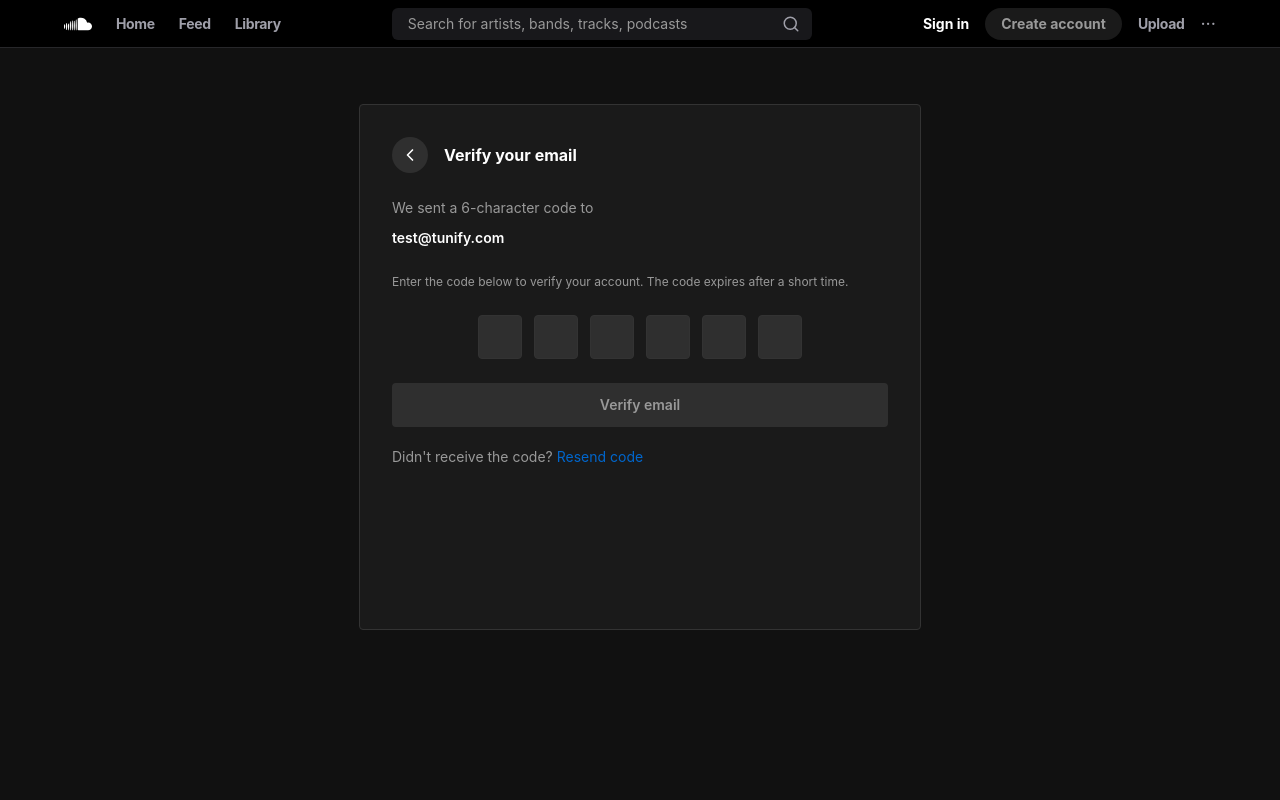
Test: VerifyEmailPage — resend flow › shows success message after resend
Click the button "Resend code".
click(600, 457)  # box left=557, top=447, right=643, bottom=467
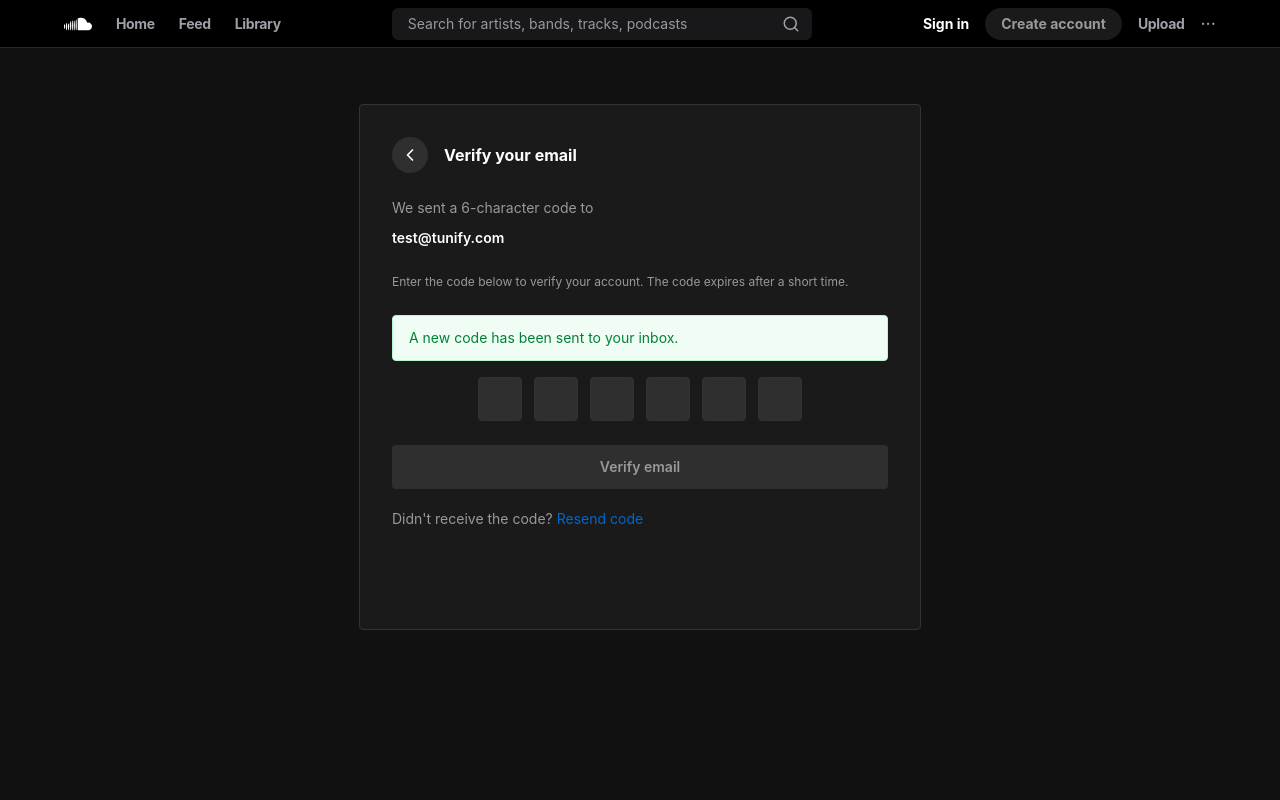
expect the text "A new code has been sent to your inbox." is shown: met, box left=392, top=315, right=888, bottom=361
